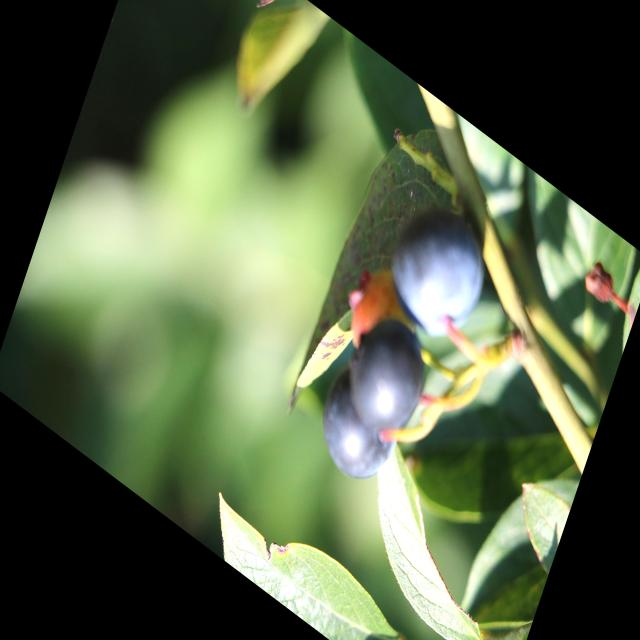blueberry: (382, 194, 492, 352), (341, 304, 436, 451), (311, 367, 404, 498)
